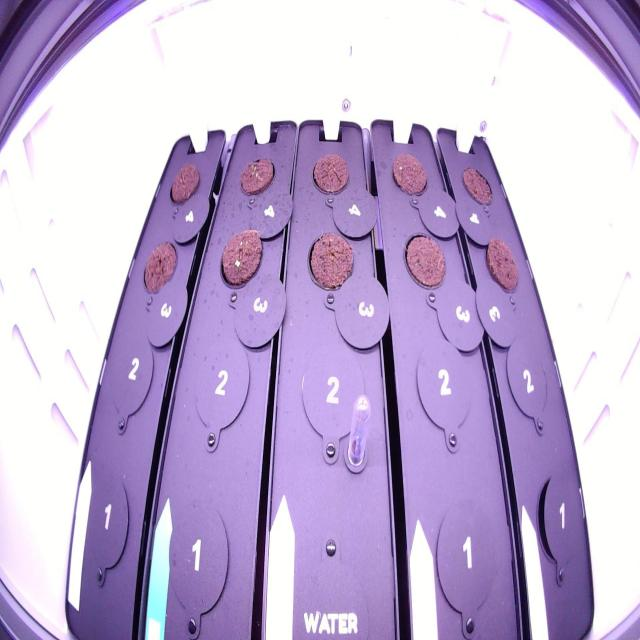empty_pod: (428, 494, 502, 628), (159, 497, 236, 613), (295, 342, 372, 454), (411, 336, 479, 436), (186, 336, 253, 436), (529, 468, 591, 570), (78, 479, 134, 575), (503, 332, 557, 429), (105, 332, 156, 423)
pod: (301, 220, 359, 303), (213, 215, 266, 299), (397, 223, 452, 299), (478, 229, 528, 300), (137, 233, 183, 308), (384, 142, 433, 206), (305, 144, 356, 202), (163, 152, 204, 216), (456, 158, 500, 217), (235, 144, 278, 202)
